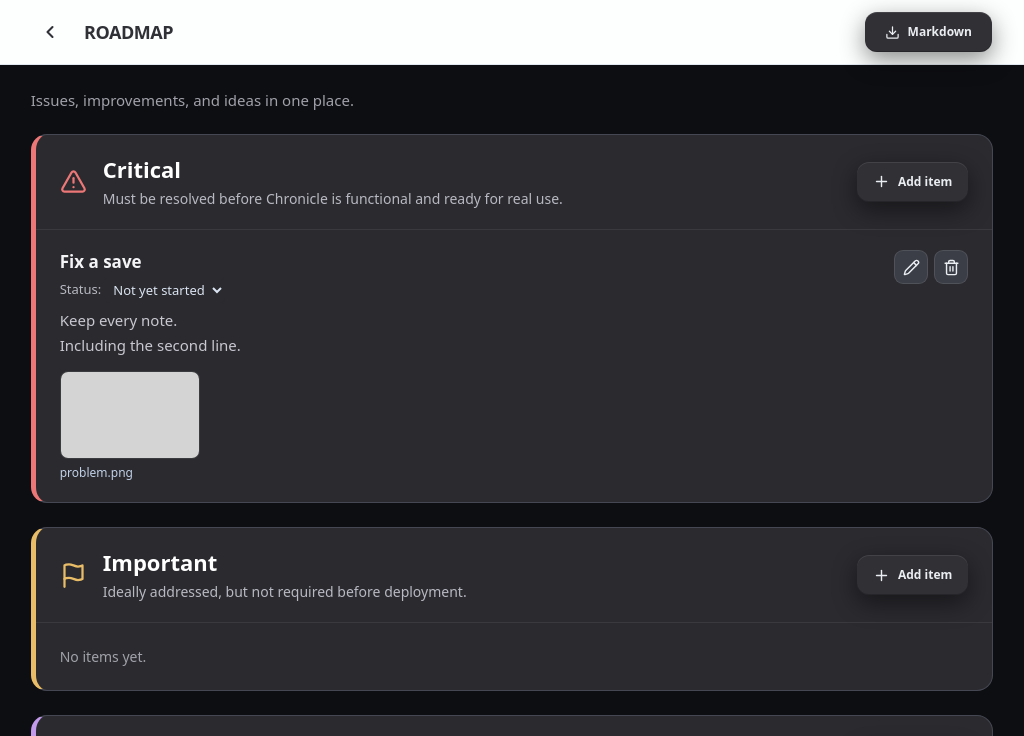
Chronicle Roadmap › does not delete a saved screenshot before its removal is successfully saved
Expected: the heading "Critical" is shown, [103,154,181,184]
Click the button named "Edit Fix a save" at [911, 267], box [894,250,928,284]
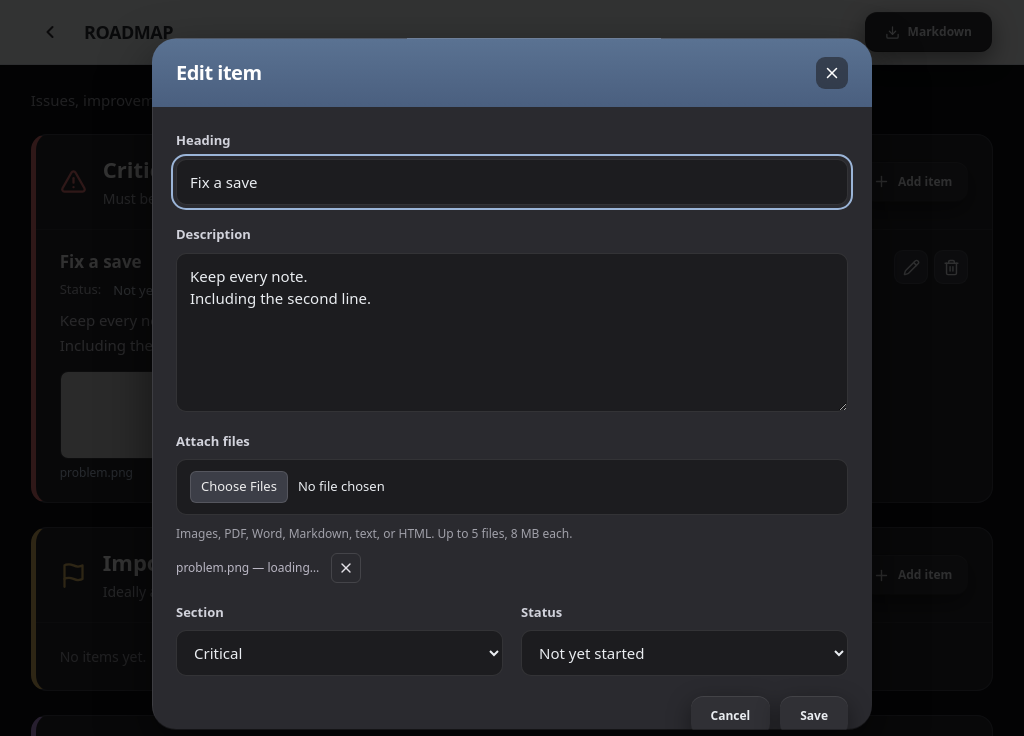
Click the button named "Remove problem.png" at [346, 568], box [331,553,361,583]
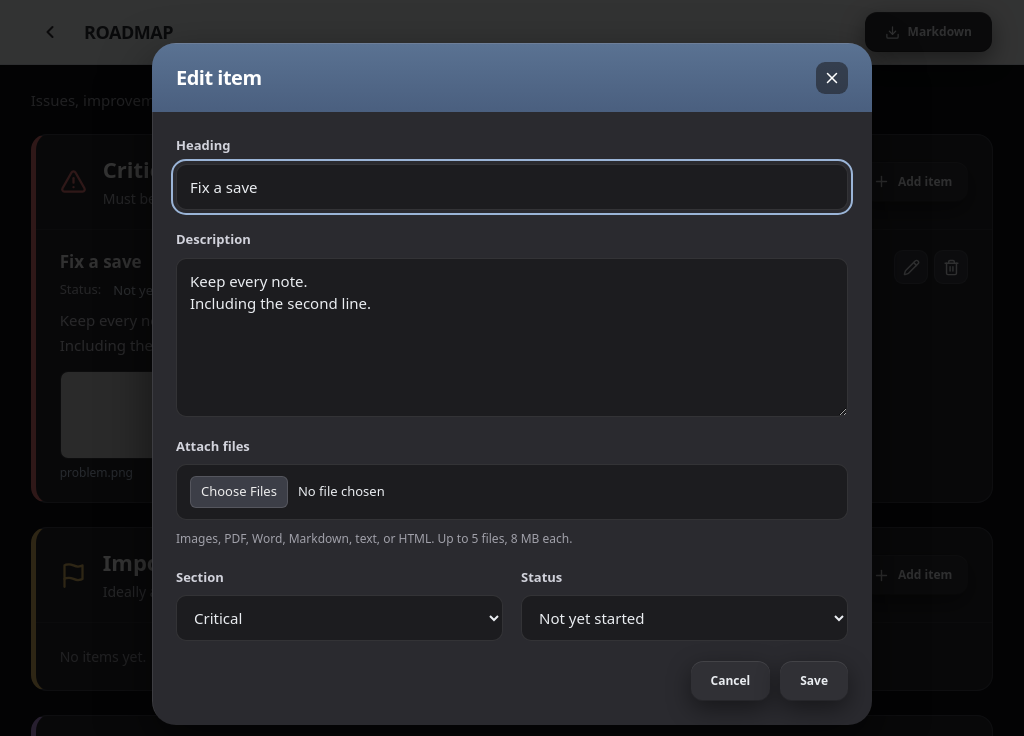
Click the button "Save" at [814, 681], box [780,661,848,701]
(page scrolled)
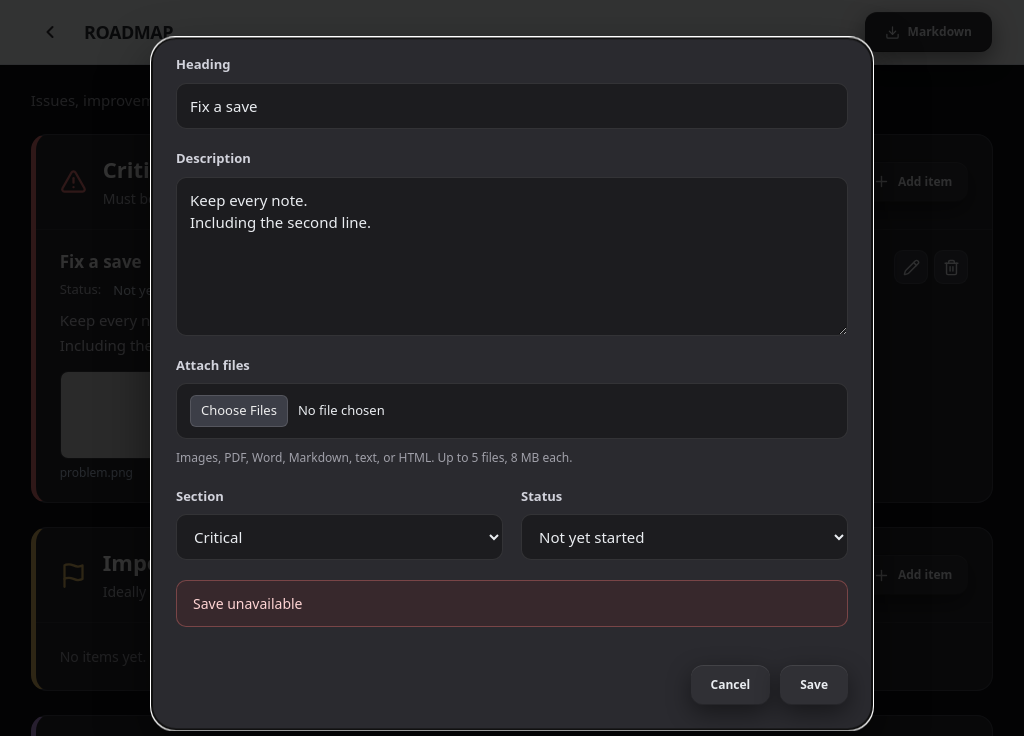
Expected: the message "Save unavailable" is shown, [176,580,848,627]
Click the button "Save" at [814, 685], box [780,665,848,705]
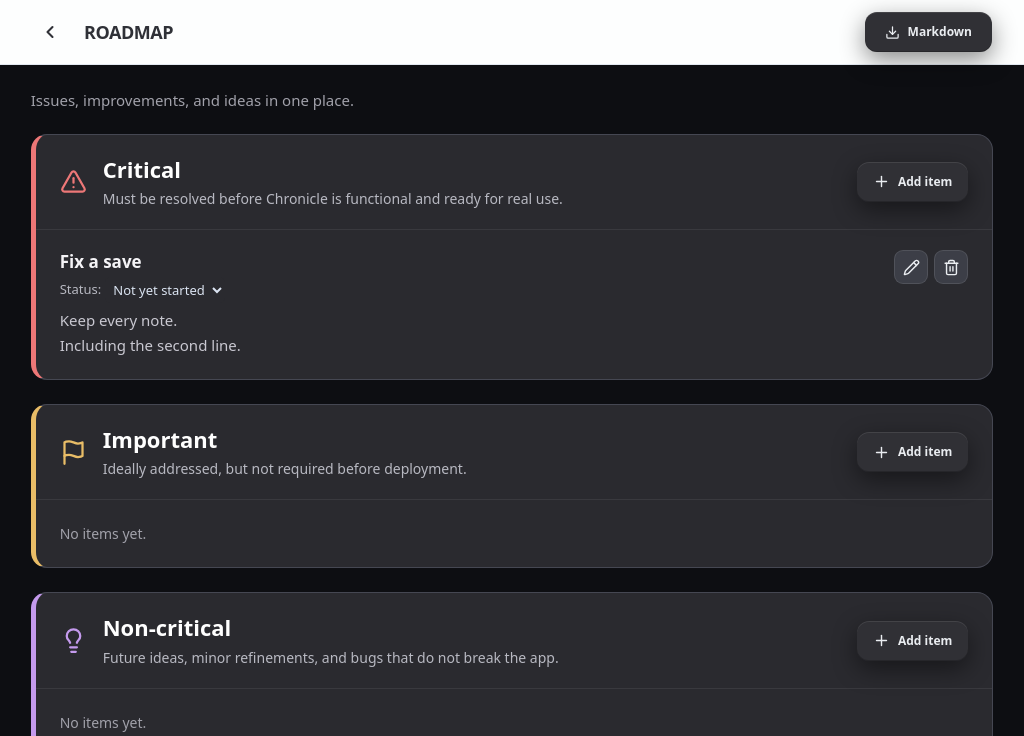
Expected: the dialog is gone
